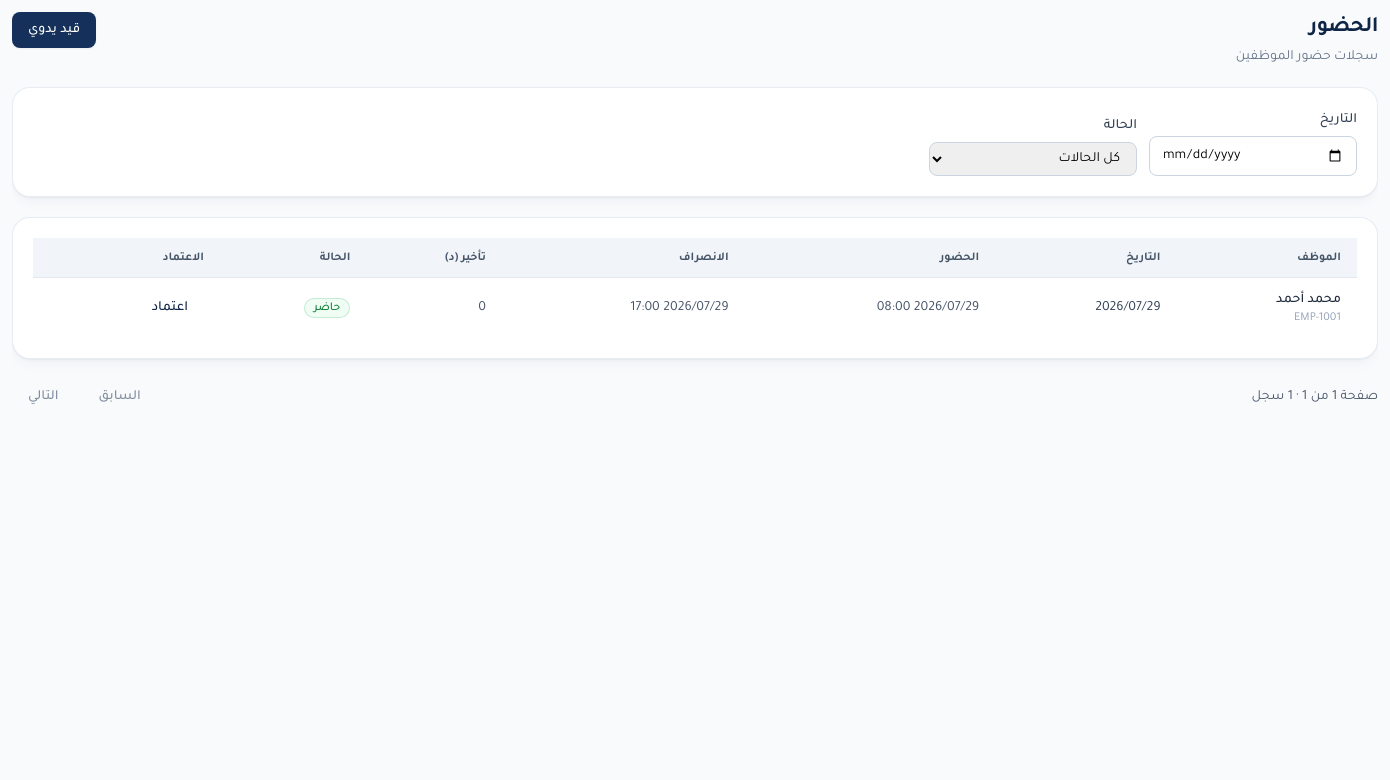
Test case: HrAttendancePage › يعتمد سجلاً فيرسل POST approve ويظهر توست
Check: the text "محمد أحمد" is shown, box top-left (1276, 293), bottom-right (1341, 307)
Click the button "اعتماد". click: (170, 308)
box: top-left (136, 290), bottom-right (204, 326)
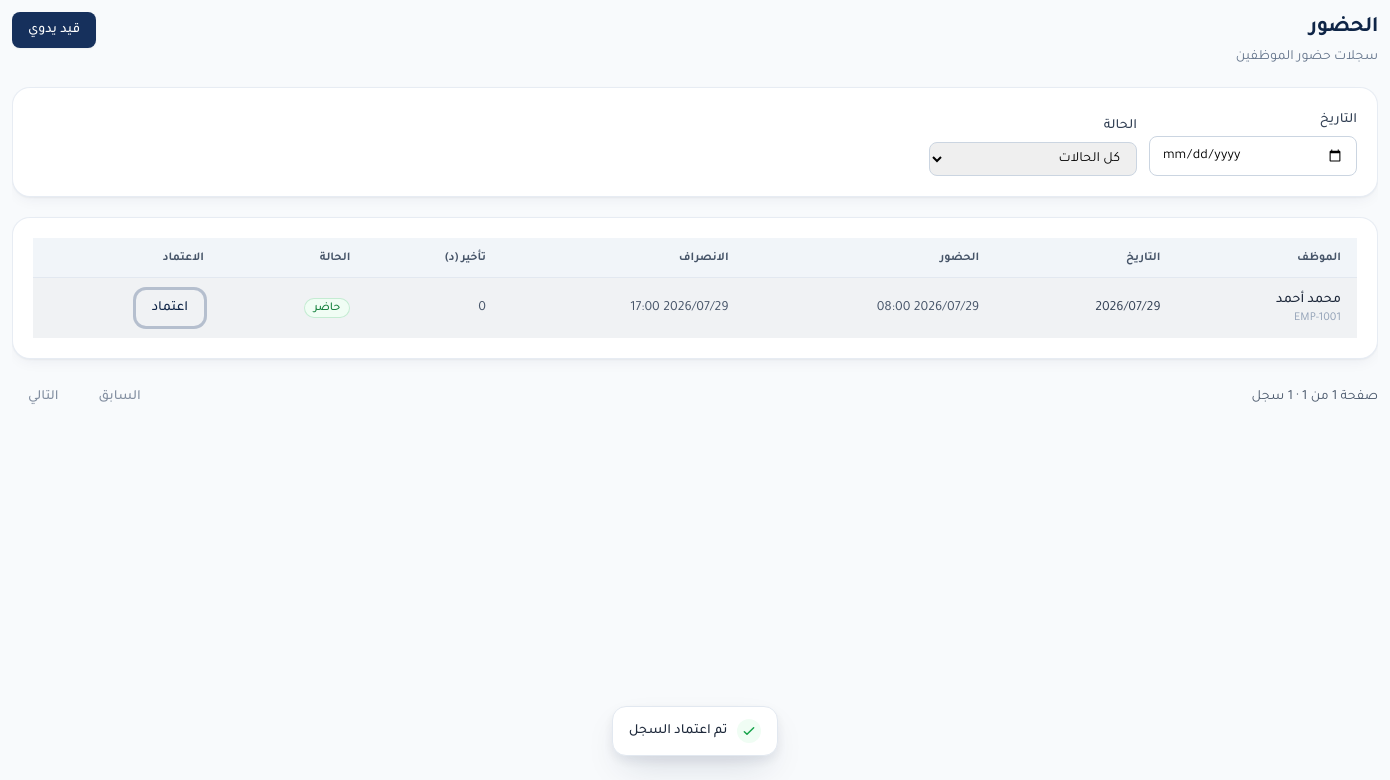
Check: the text "تم اعتماد السجل" is shown, box top-left (629, 721), bottom-right (727, 741)
